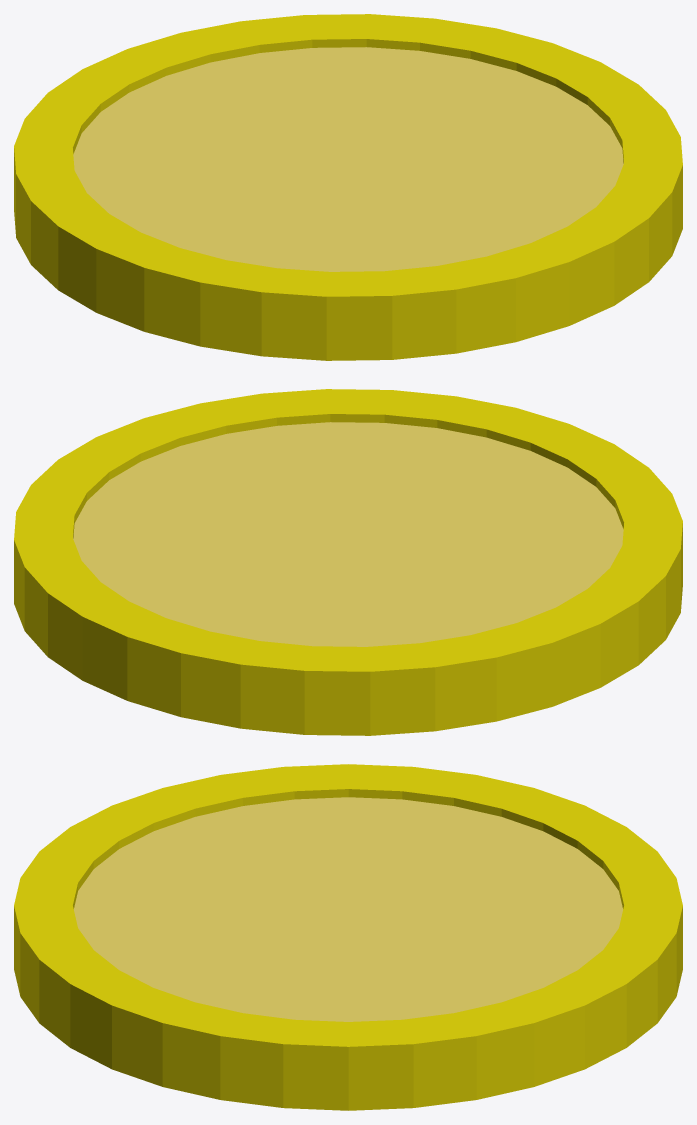
Rendered from coinblanck.fbx.
3 renders of one model, top to bottom at view 1: azimuth 30°, elevation 25°; view 2: azimuth 150°, elevation 25°; view 3: azimuth 270°, elevation 25°, orthographic.
Visible parts, largest first — view 1: Cylinder; view 2: Cylinder; view 3: Cylinder.
Boxes of the visible parts, x1,y1,x2,y2 form: Cylinder: (14, 14, 682, 360); Cylinder: (14, 389, 682, 735); Cylinder: (14, 764, 682, 1110).
Bounding box in the file's own units: 2 × 0.2109 × 2.
